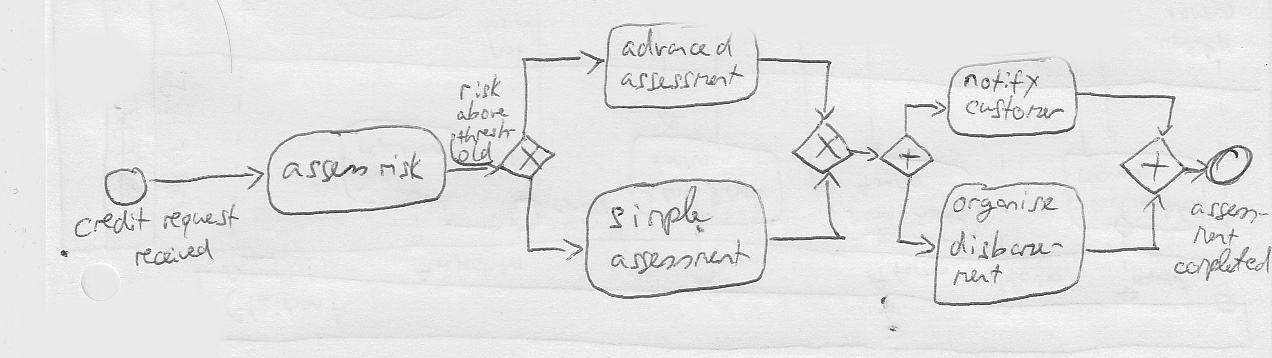above: (453, 98, 511, 124)
advanced: (618, 25, 737, 62)
assess: (277, 156, 373, 187)
assess-: (1187, 199, 1268, 227)
assessment: (605, 237, 755, 278), (616, 61, 747, 96)
completed: (1169, 243, 1271, 284)
credit: (70, 204, 156, 243)
customer: (962, 92, 1069, 124)
disbare-: (945, 227, 1070, 264)
ment: (948, 261, 1007, 291), (1189, 222, 1243, 249)
notify: (961, 66, 1043, 101)
old: (454, 138, 497, 166)
organise: (949, 188, 1062, 227)
received: (131, 235, 218, 272)
request: (158, 201, 243, 242)
risk: (375, 149, 428, 184), (456, 72, 504, 104)
simple: (605, 183, 717, 240)
thresh-: (456, 116, 517, 147)
